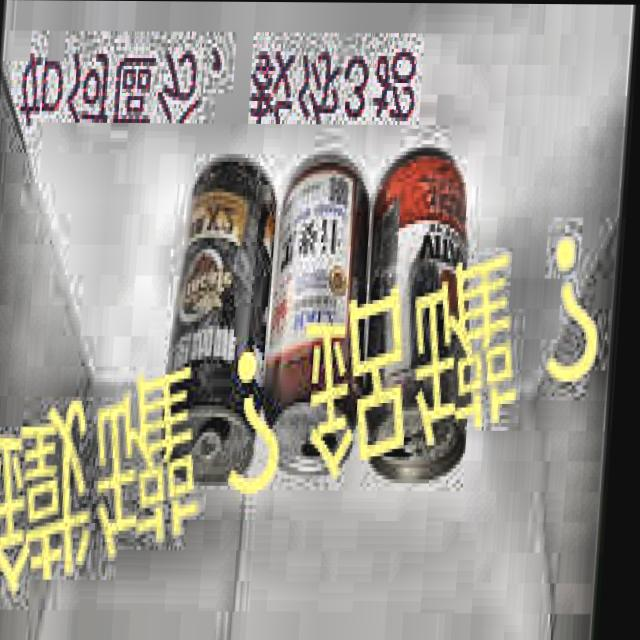can: (362, 132, 493, 491), (158, 148, 286, 498), (261, 149, 383, 488)
